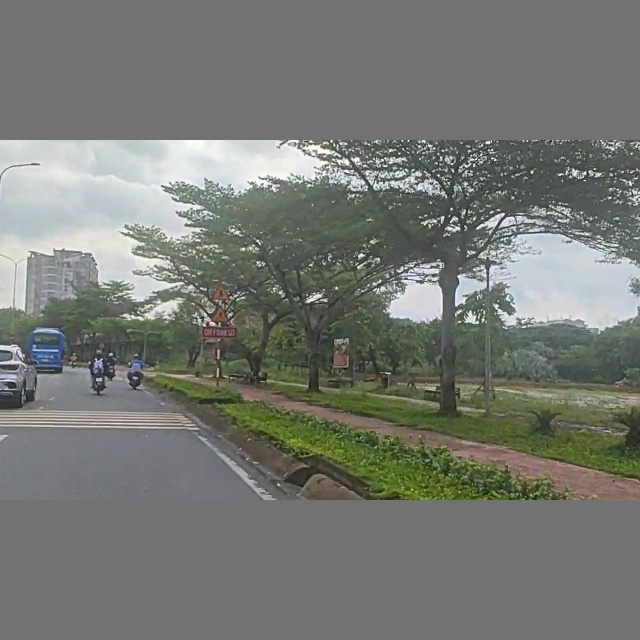W.207: (211, 283, 232, 301)
W.224: (208, 305, 231, 323)
